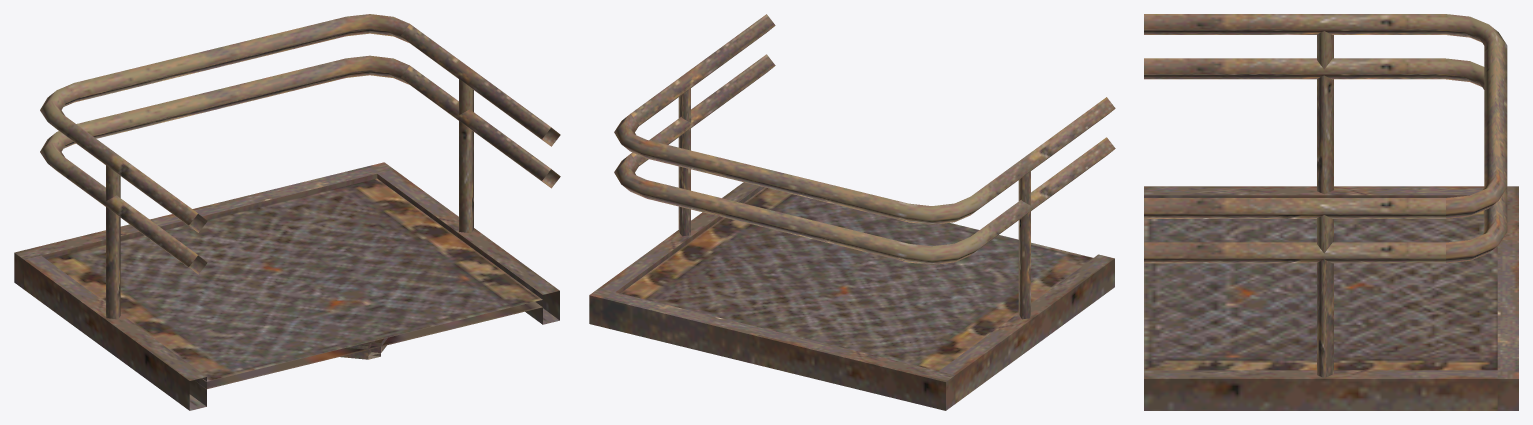
File: Bridge_end.fbx
The picture shows the model from 3 angles, left to right: view 1: azimuth 30°, elevation 25°; view 2: azimuth 150°, elevation 25°; view 3: azimuth 270°, elevation 25°; orthographic projection. The views are drawn at different scales.
Parts seen in each view (by area): view 1: Bridge_end; view 2: Bridge_end; view 3: Bridge_end.
Boxes of the visible parts, <box> form: Bridge_end: <box>14,14,560,410</box>; Bridge_end: <box>589,14,1115,410</box>; Bridge_end: <box>1144,14,1518,410</box>.
Size of the model in its own units: 210 by 105 by 172.
